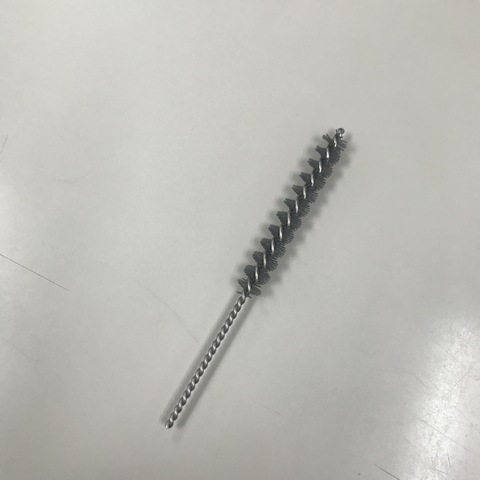Twist Brush-A: (168, 124, 351, 430)
